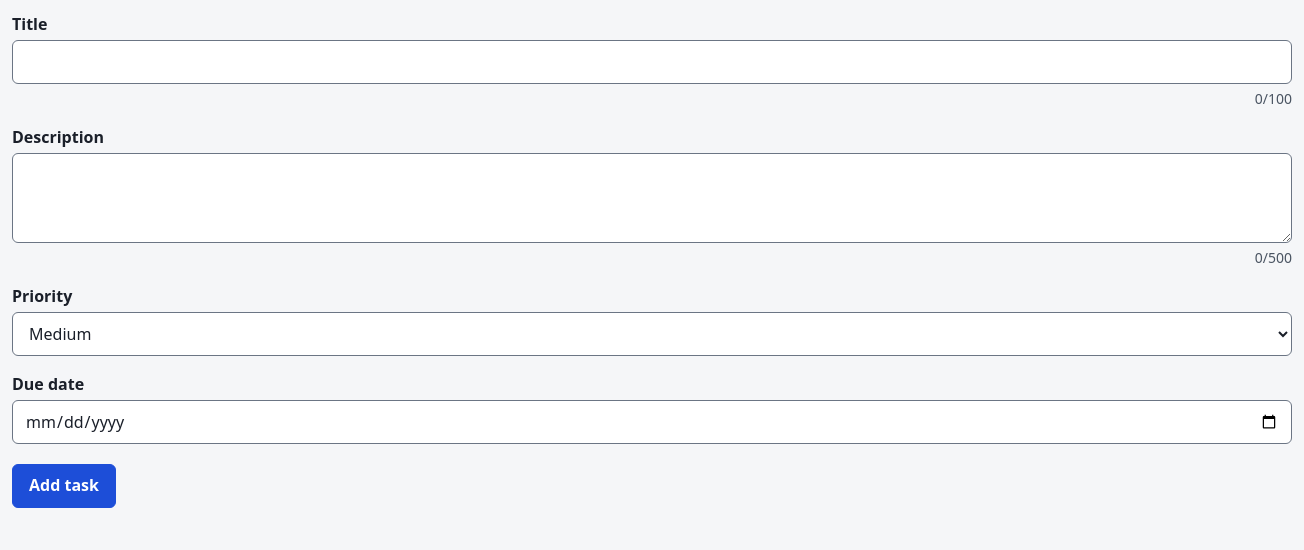
Test: TaskForm › rejects a half-typed date that the browser reports as badInput
This screenshot has width=1304, height=550.
Type "Half date" into the field labelled "Title". click: (652, 62)
box: [12,40,1292,84]
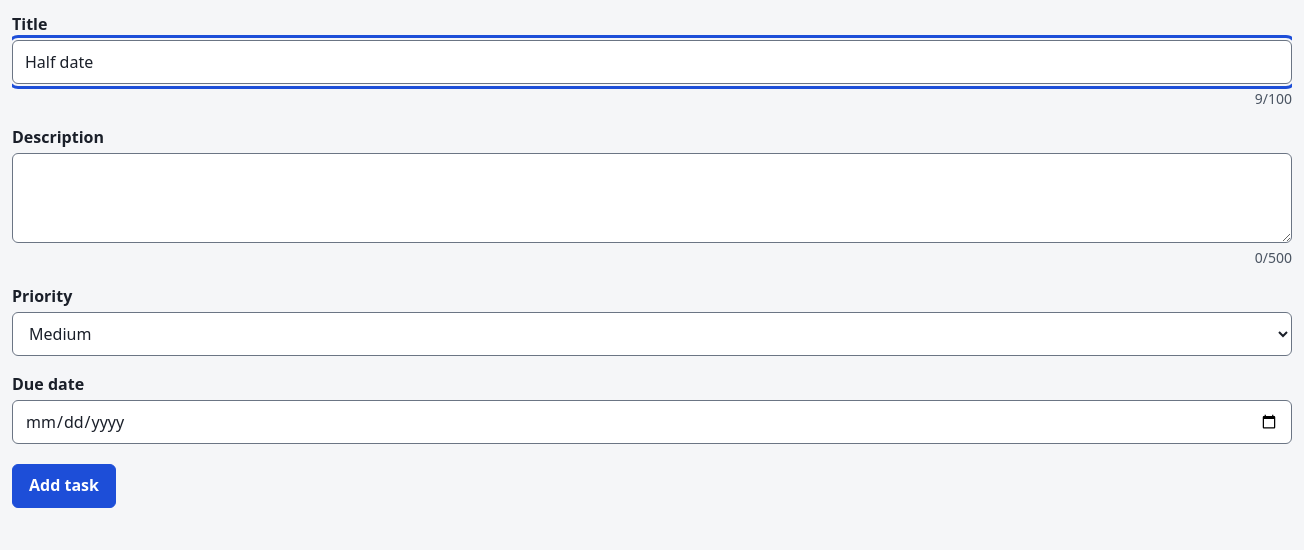
Click the button "Add task". click: (64, 486)
box: [12,464,116,508]
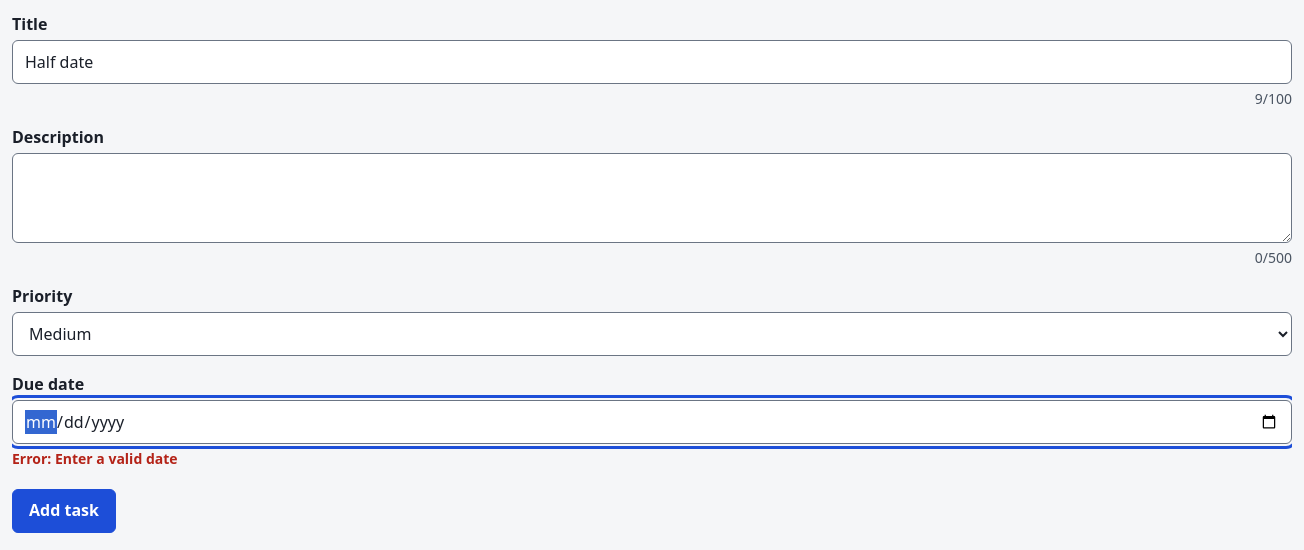
expect the text "Enter a valid date" is shown: met, box [55,449,178,468]
